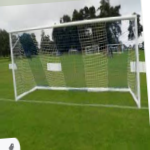goals: (10, 13, 145, 110)
